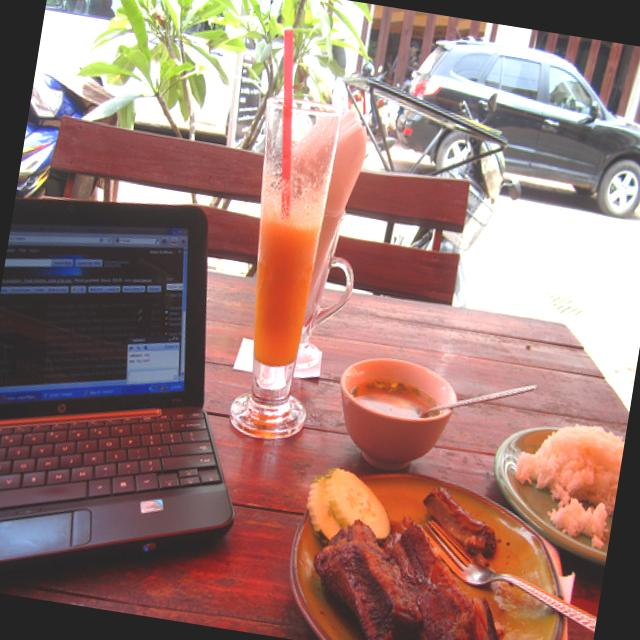Vehicle: (382, 29, 640, 226), (385, 28, 640, 224), (15, 71, 93, 211)
